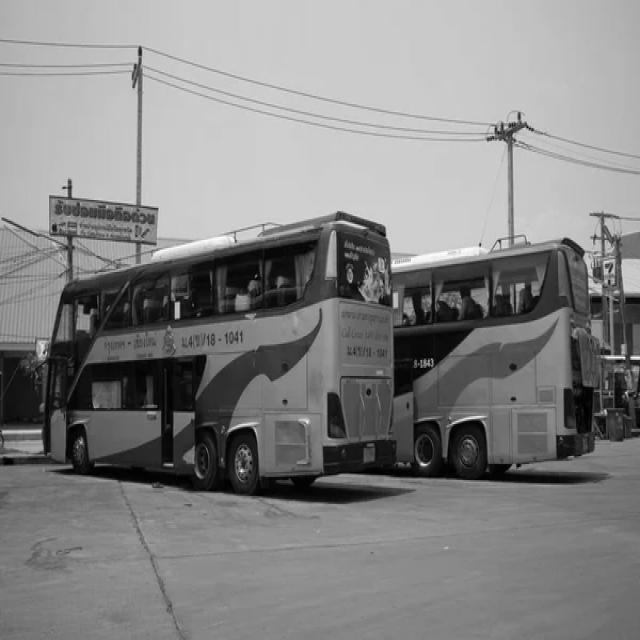Bus: (42, 213, 396, 493), (394, 238, 602, 478)
